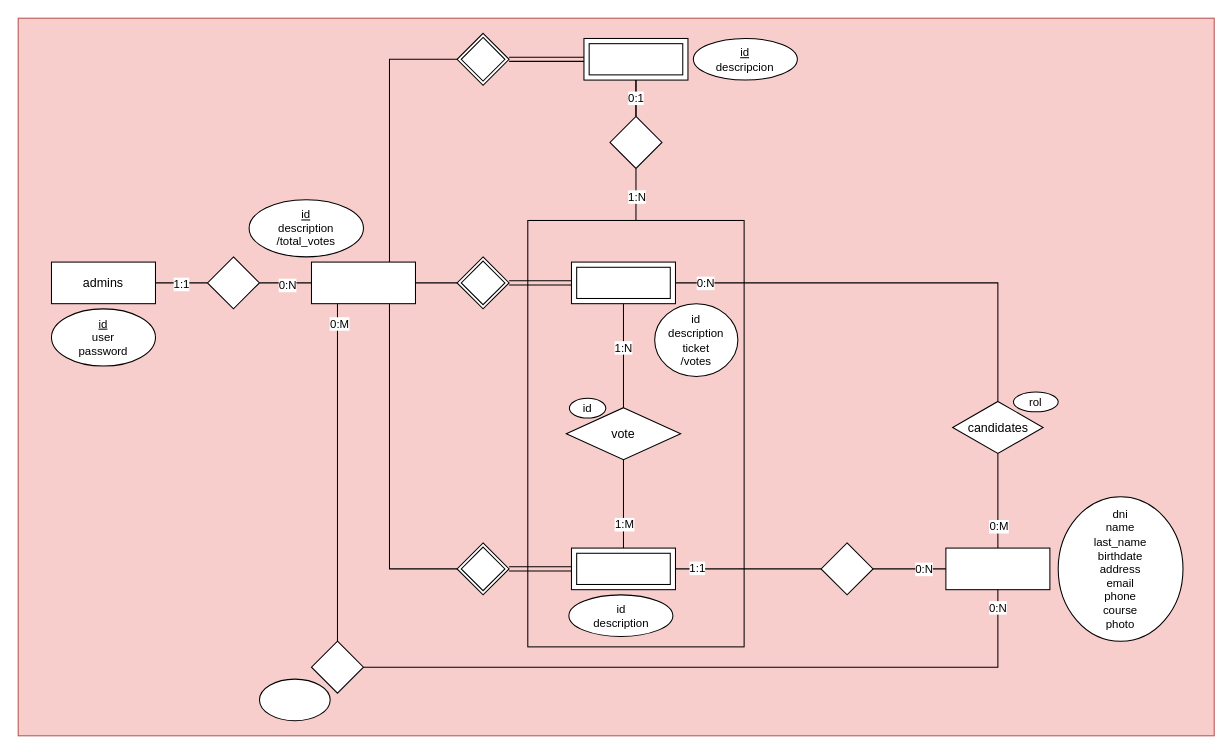
Image size: 1232x754. Some labels were removed from this diagram. The box of each missing label's shape, as (x1, y1, x2, y2) in pixels:
already_vote: (258, 678, 330, 721)
delegation: (583, 37, 688, 80)
elections: (310, 261, 415, 304)
electoral_tables: (570, 547, 675, 590)
lists: (570, 261, 675, 304)
students: (945, 547, 1050, 590)
